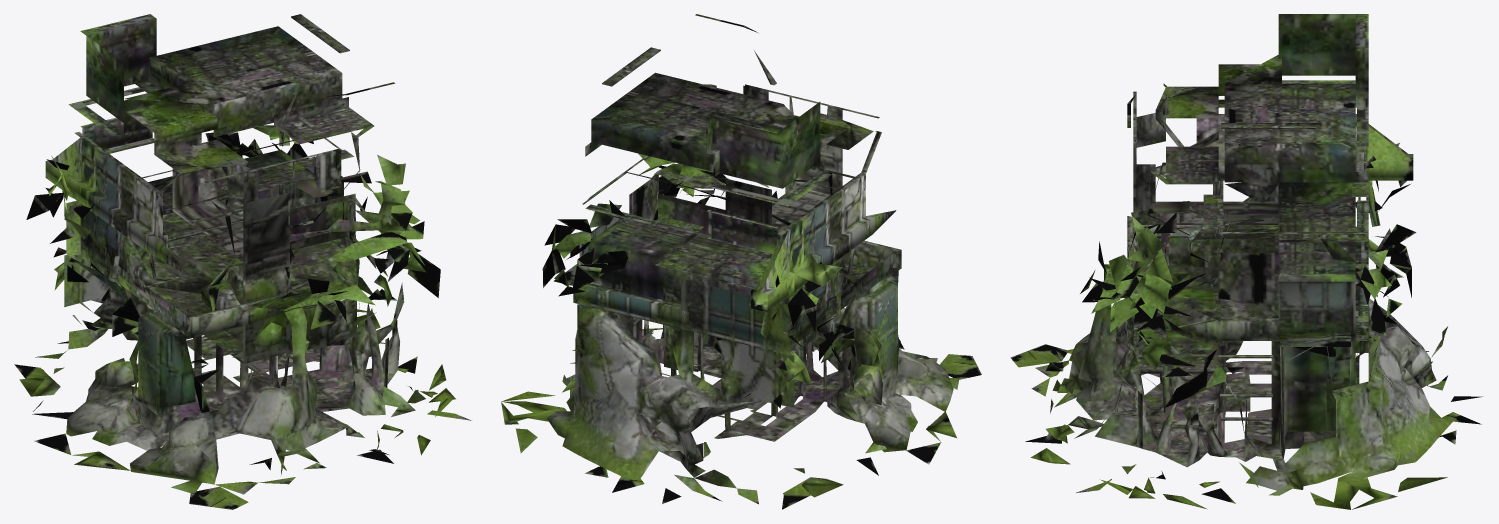
Rendered from obj_004_rtp.glb.
3 views of the same model, side by side, from view 1: azimuth 30°, elevation 25°; view 2: azimuth 150°, elevation 25°; view 3: azimuth 270°, elevation 25° (orthographic). The views are drawn at different scales.
Parts seen in each view (by area): view 1: tripo_node_efd12d46-9331-498f-a70e-5b97518bfe0c; view 2: tripo_node_efd12d46-9331-498f-a70e-5b97518bfe0c; view 3: tripo_node_efd12d46-9331-498f-a70e-5b97518bfe0c.
Part boxes in pixels (x1,y1,x2,y2): tripo_node_efd12d46-9331-498f-a70e-5b97518bfe0c: (14, 14, 471, 509); tripo_node_efd12d46-9331-498f-a70e-5b97518bfe0c: (501, 14, 981, 509); tripo_node_efd12d46-9331-498f-a70e-5b97518bfe0c: (1010, 14, 1483, 509).
Bounding box in the file's own units: 0.7613 × 0.6556 × 0.7926.
1 material, 1 textured.
